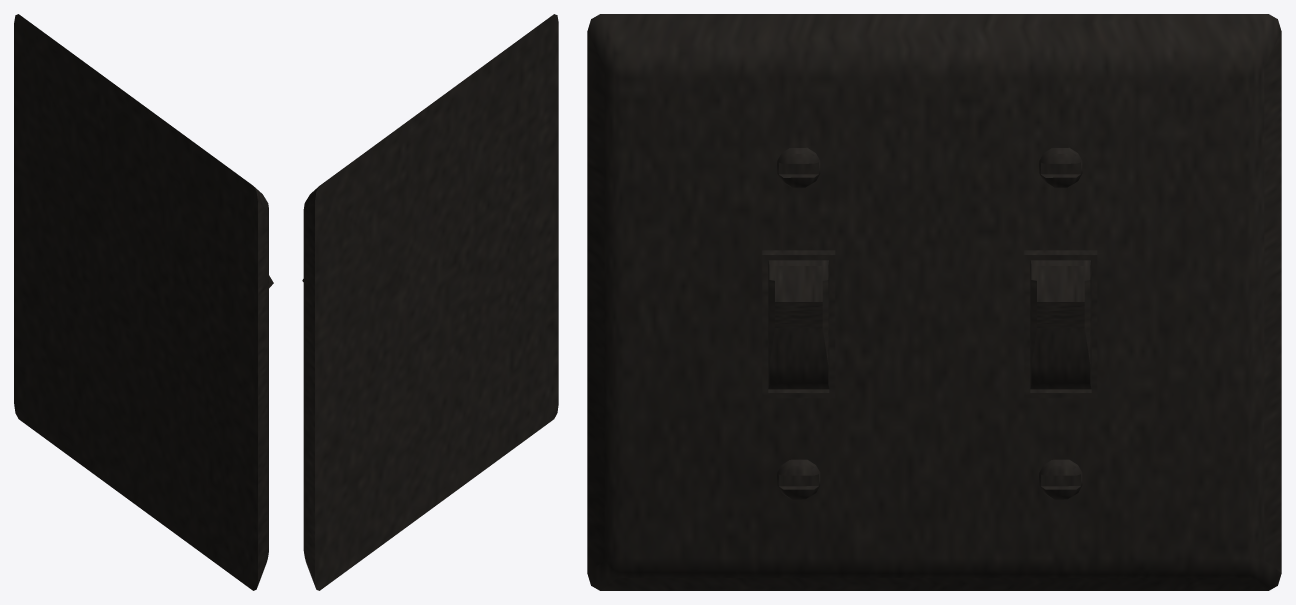
File: Switch Black Dou.fbx
3 renders of one model, left to right at view 1: azimuth 30°, elevation 25°; view 2: azimuth 150°, elevation 25°; view 3: azimuth 270°, elevation 25°, orthographic. The views are drawn at different scales.
Visible parts, largest first — view 1: Switch Black Dou; view 2: Switch Black Dou; view 3: Switch Black Dou.
Part boxes in pixels (x1,y1,x2,y2): Switch Black Dou: [14, 14, 273, 590]; Switch Black Dou: [302, 14, 558, 590]; Switch Black Dou: [587, 14, 1281, 590].
Bounding box in the file's own units: 3.37 × 15.93 × 17.38.
